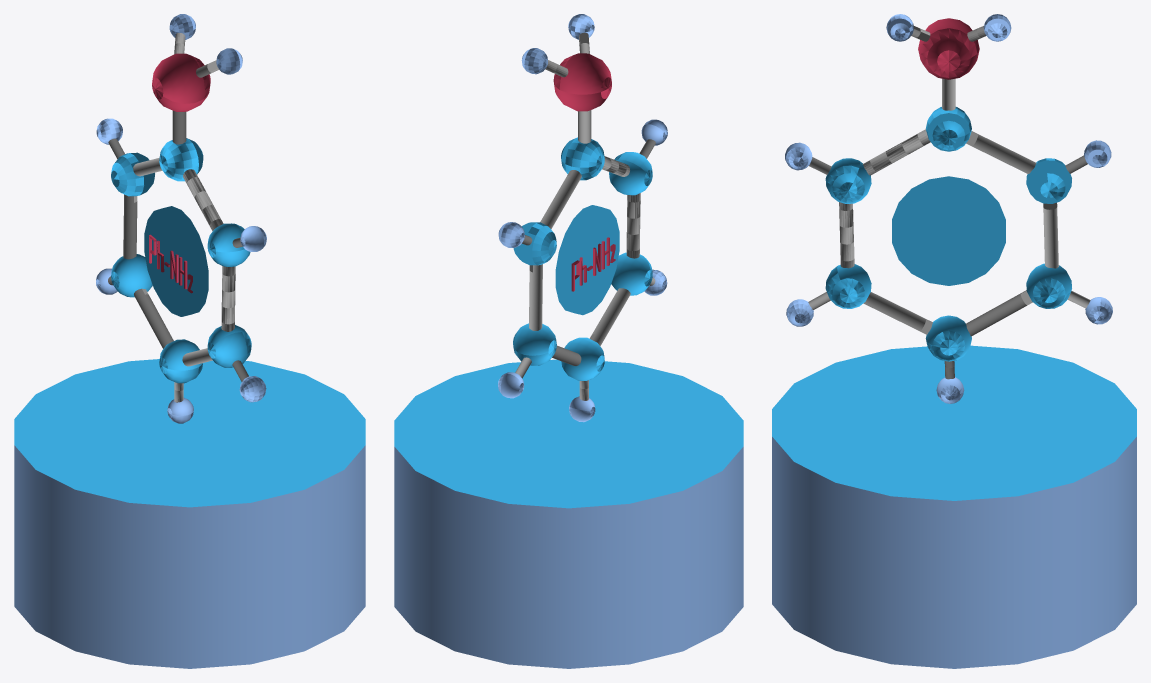
The picture shows the model from 3 angles, left to right: view 1: azimuth 30°, elevation 25°; view 2: azimuth 150°, elevation 25°; view 3: azimuth 270°, elevation 25°; orthographic projection. The views are drawn at different scales.
Visible parts, largest first — view 1: Cylinder001, Text002; view 2: Cylinder001, Text002; view 3: Cylinder001, Text002.
Boxes of the visible parts, x1,y1,x2,y2 form: Cylinder001: (14,359,365,668); Text002: (96,14,266,423); Cylinder001: (394,359,743,668); Text002: (498,14,667,422); Cylinder001: (772,345,1136,668); Text002: (785,14,1112,403).
Size of the model in its own units: 800 by 1387 by 788.
